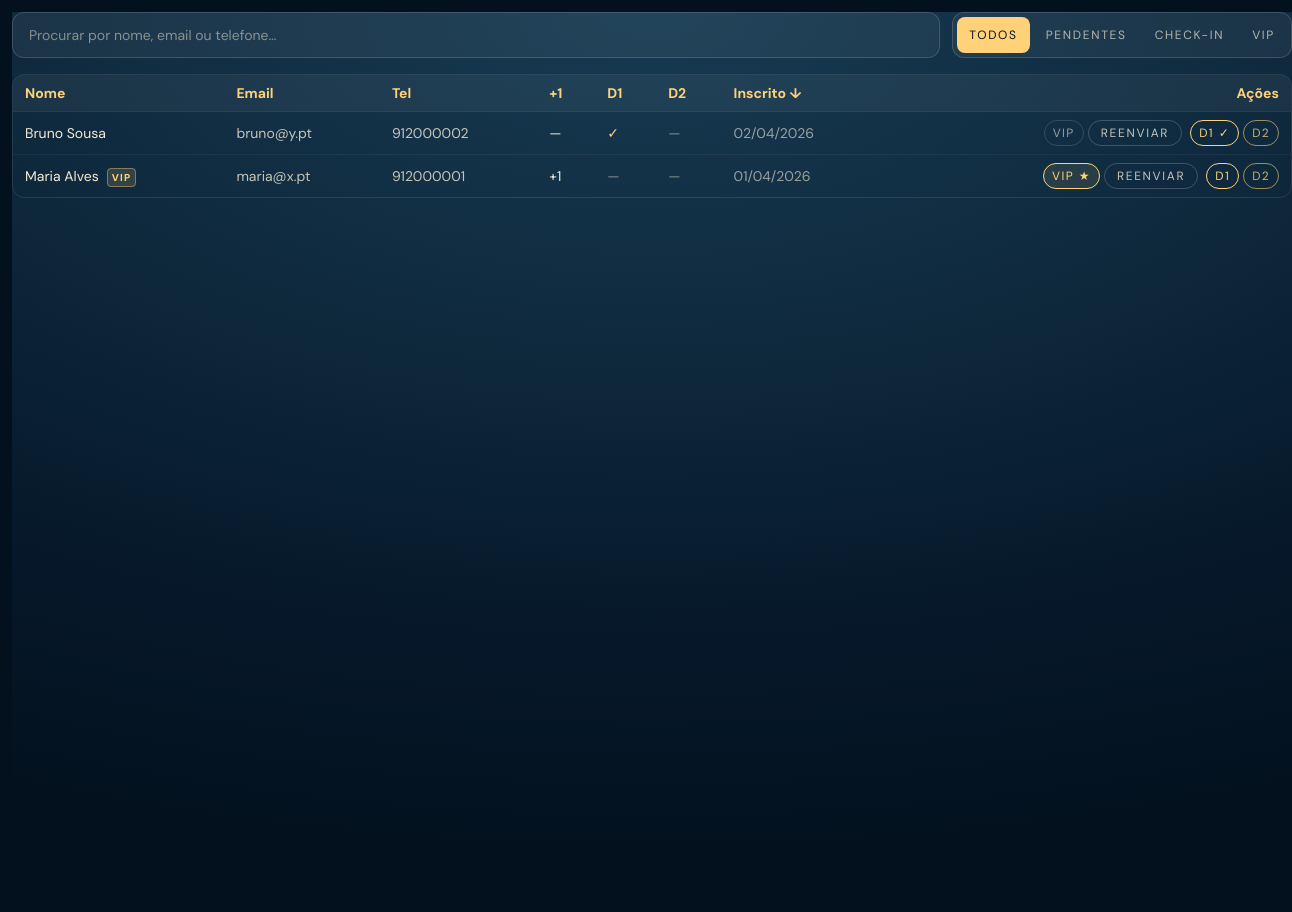
Test: GuestsTable › filter vip só mostra guests VIP
Note: Filter button label is "VIP" in the filter row (not the toggle ★ button)
Click the 1st button "VIP": [1264, 35] box [1240,17,1287,53]
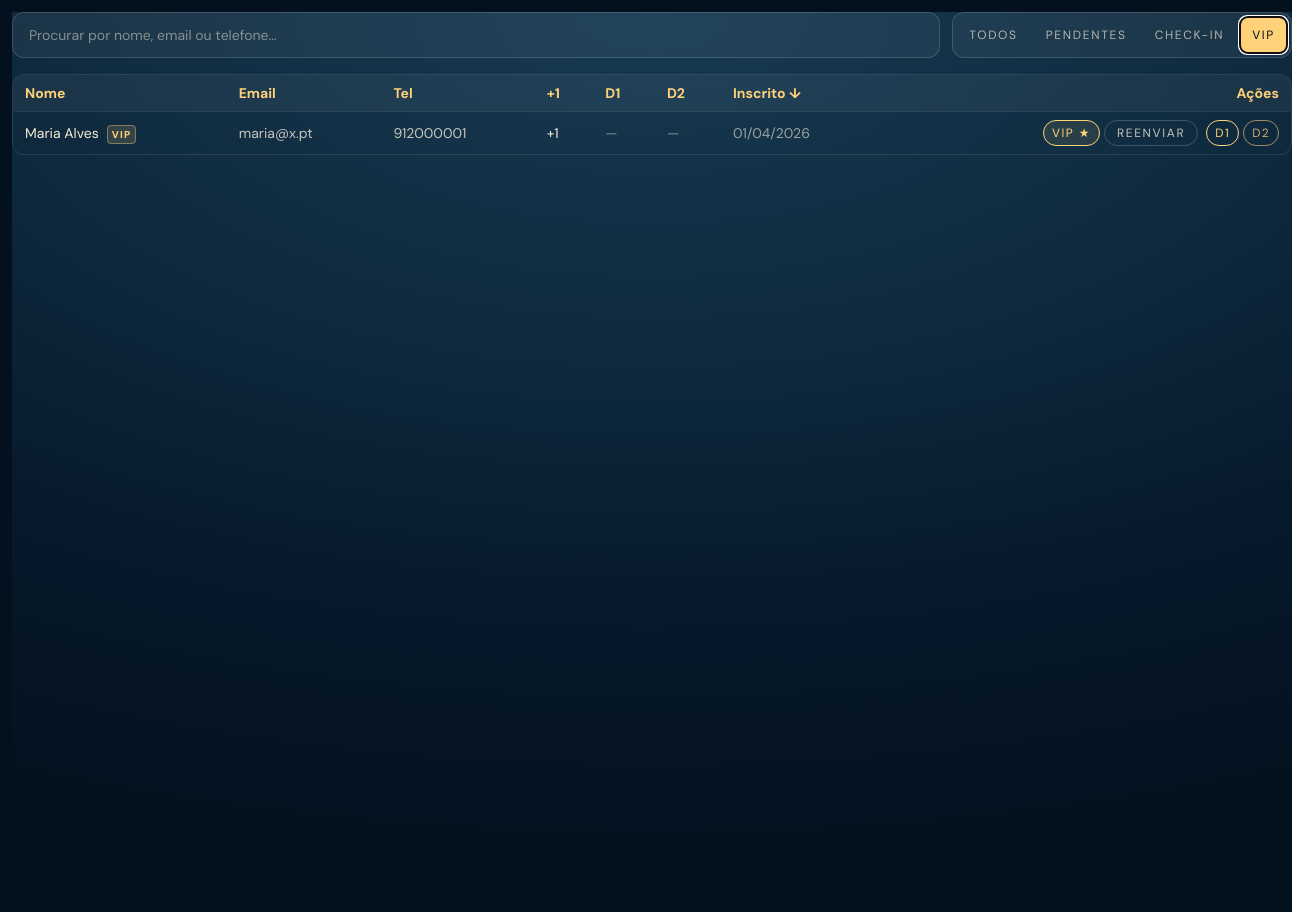
Check: the text "Maria Alves" is shown, box [25,124,99,142]
Check: the text "Bruno Sousa" is gone
